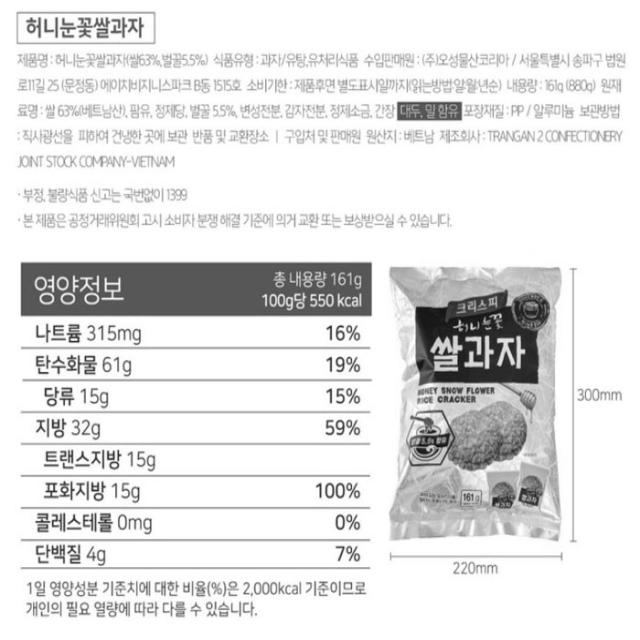Nutrition Label: (18, 253, 377, 624)
